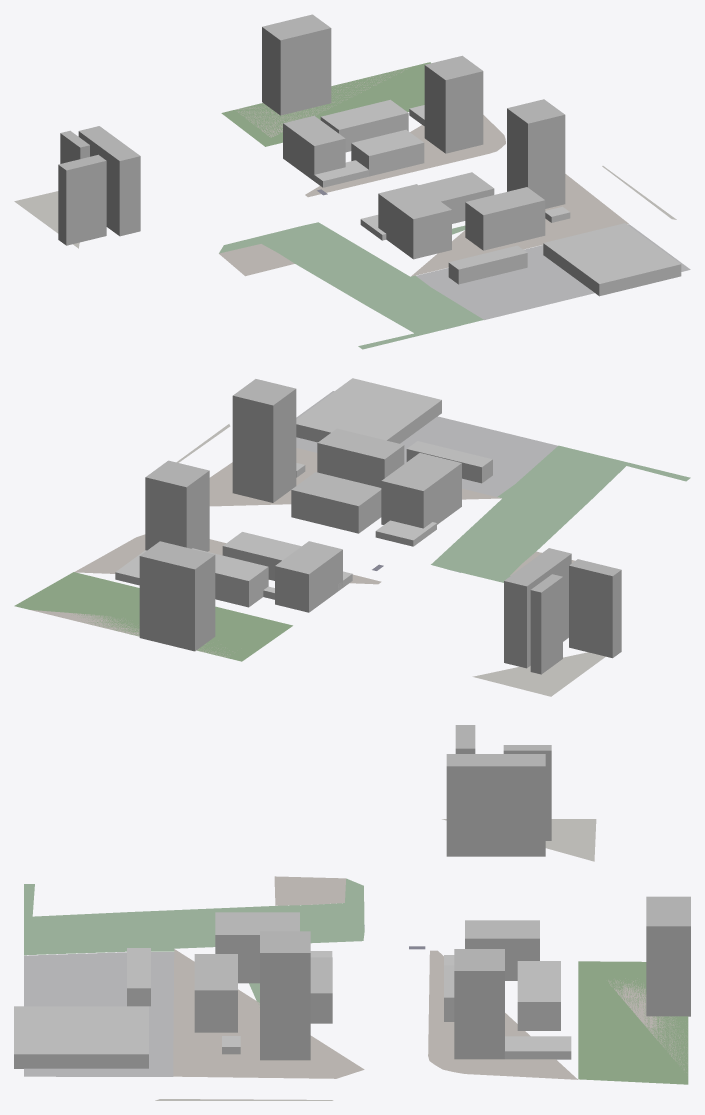
Rendered from 117_74_mid.glb.
3 views of the same model, one above another, from view 1: azimuth 30°, elevation 25°; view 2: azimuth 150°, elevation 25°; view 3: azimuth 270°, elevation 25° (orthographic). The views are drawn at different scales.
Bounding box in the file's own units: 506 × 89.64 × 510.
